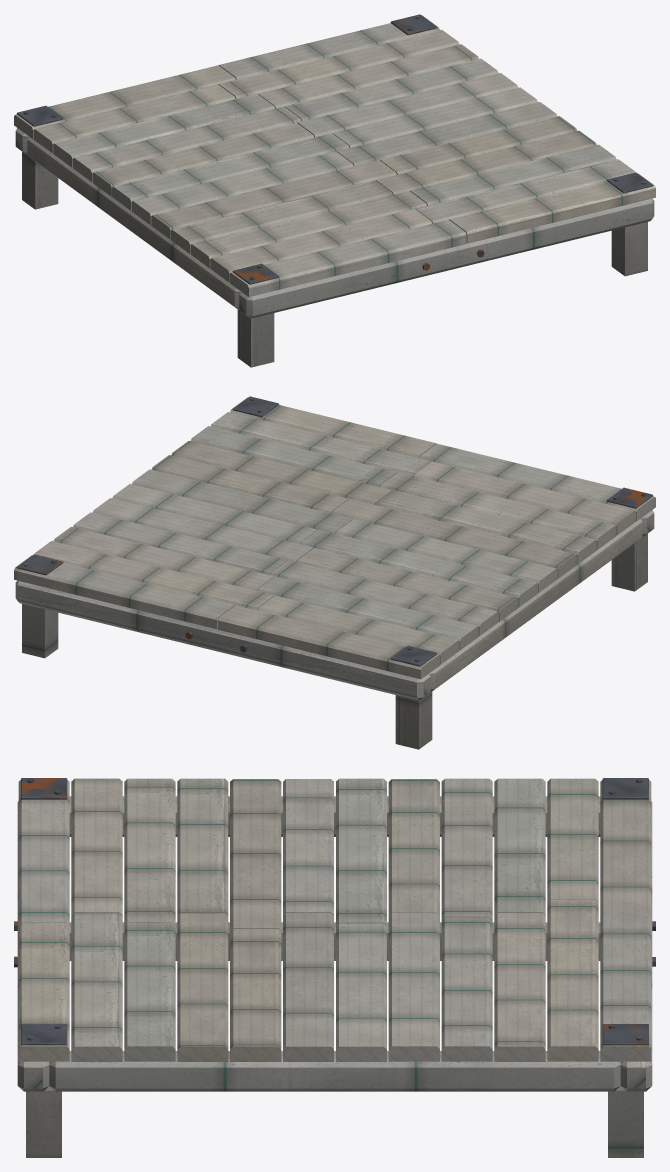
File: makine_platformu_orta.glb
3 renders of one model, top to bottom at view 1: azimuth 30°, elevation 25°; view 2: azimuth 150°, elevation 25°; view 3: azimuth 270°, elevation 25°, orthographic. The views are drawn at different scales.
Parts seen in each view (by area): view 1: makine_platformu_orta; view 2: makine_platformu_orta; view 3: makine_platformu_orta.
Part boxes in pixels (left/top/right/bottom): makine_platformu_orta: left=14, top=14, right=655, bottom=367; makine_platformu_orta: left=14, top=396, right=655, bottom=749; makine_platformu_orta: left=14, top=778, right=655, bottom=1157.
Bounding box in the file's own units: 6 × 1.24 × 6.07.
1 material, 1 textured.
